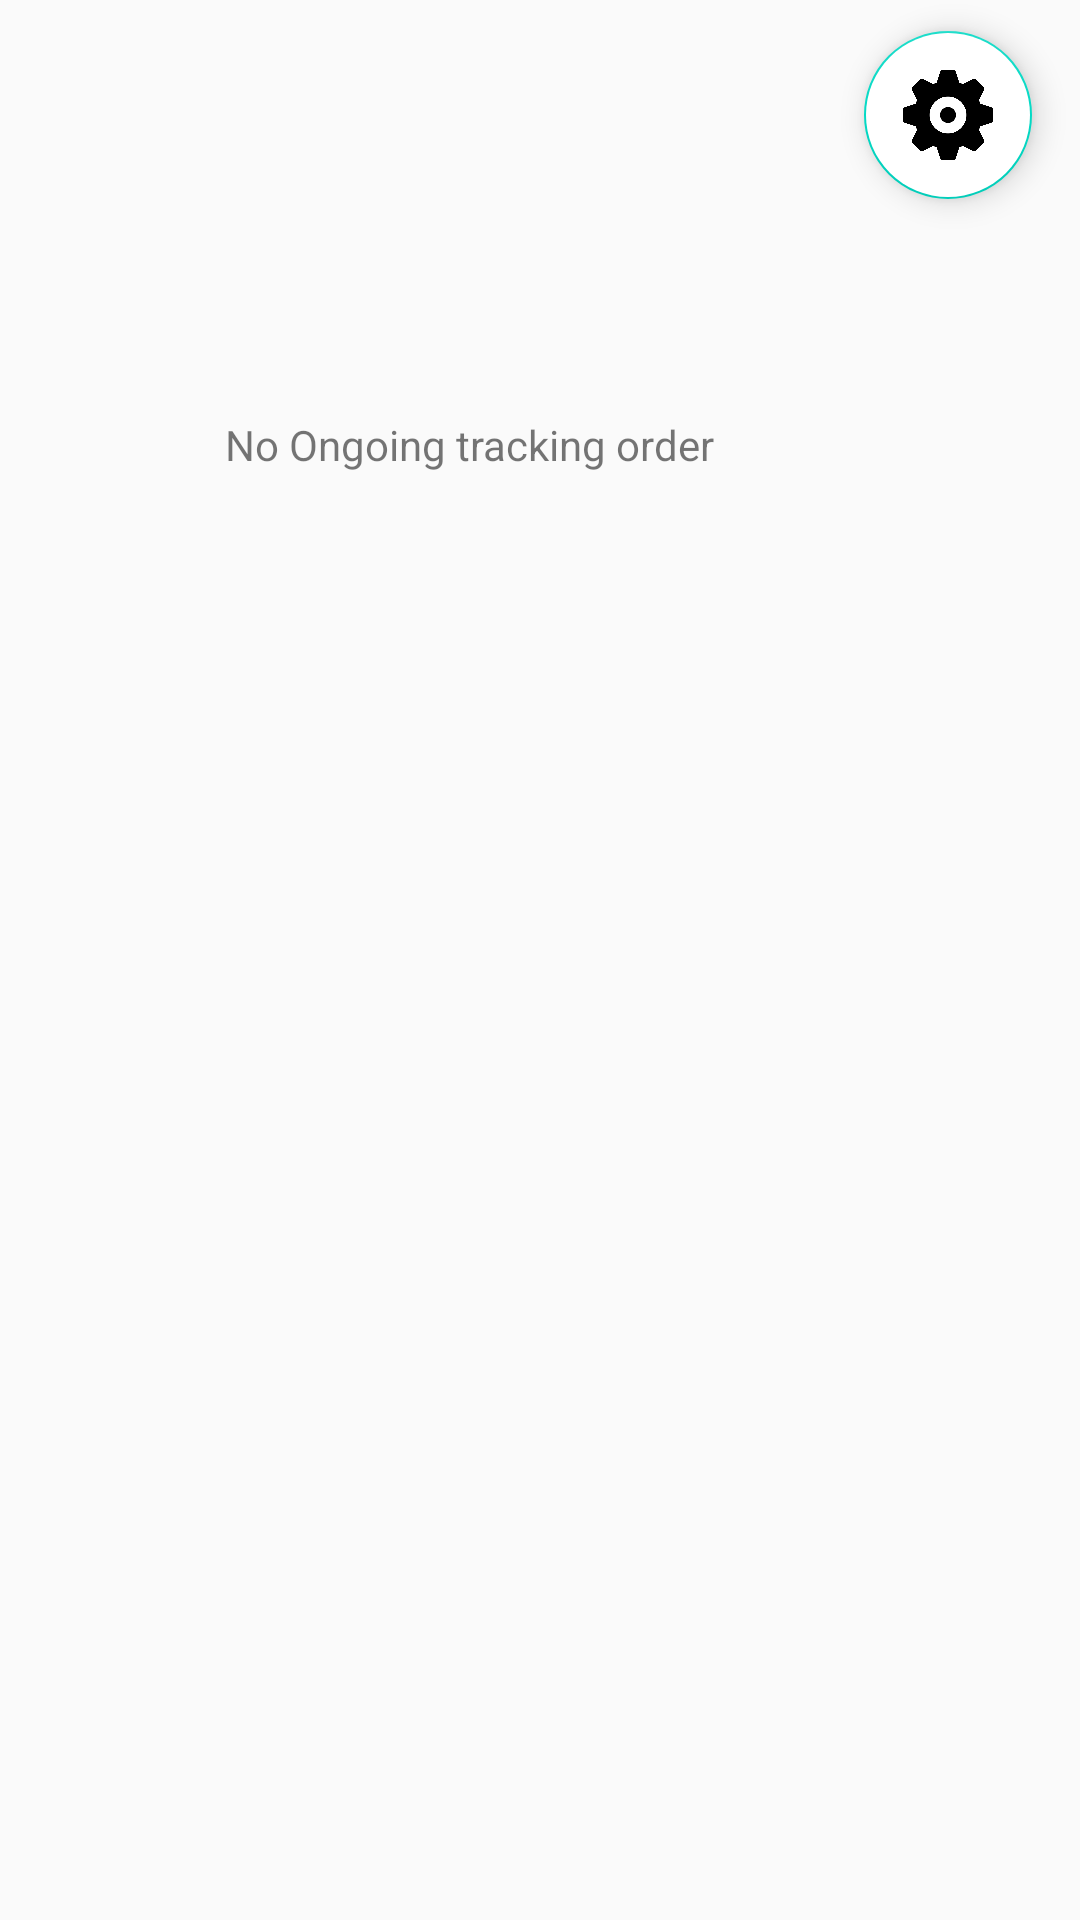

Icons on this 1080w x 1920h Android screen, each with its box as (left=x1, top=y1, right=x2, bottom=y2):
tools: (left=864, top=31, right=1032, bottom=199)
